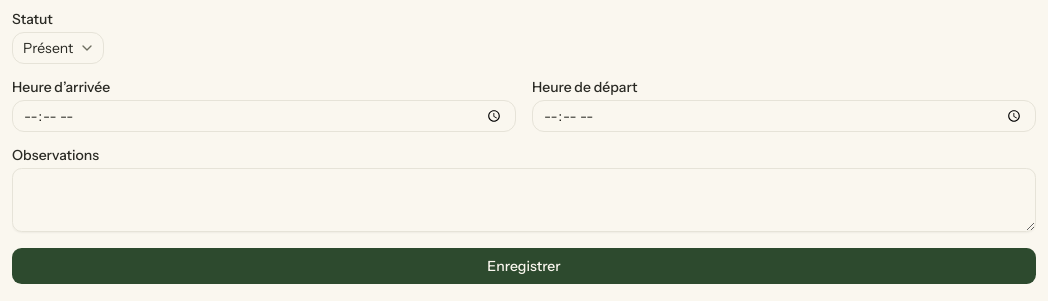
it: AttendanceForm (création — pas de pointage existant) › le sélecteur de statut propose les 4 statuts réels, aucun autre
The width and height of the screenshot is (1048, 301).
What coordinates should you click on to do the following:
click the dropdown named "Statut"
I would click on:
 (58, 48)
Its box is [12, 32, 104, 64].
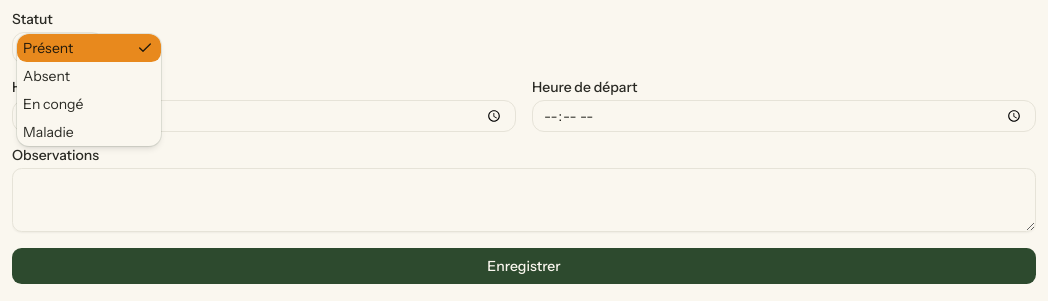
Check: the option "Présent" is shown, box [17, 34, 161, 62]
Check: the option "Absent" is shown, box [23, 67, 70, 85]
Check: the option "En congé" is shown, box [23, 95, 84, 113]
